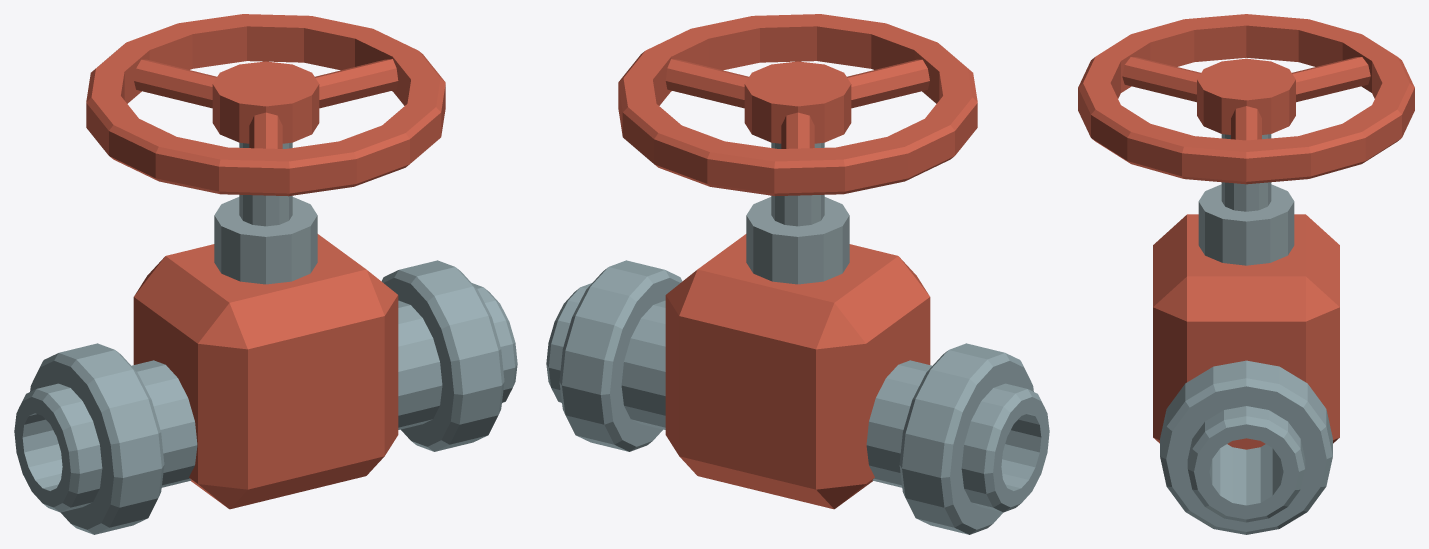
File: Systems-WaterValve.fbx
3 views of the same model, side by side, from view 1: azimuth 30°, elevation 25°; view 2: azimuth 150°, elevation 25°; view 3: azimuth 270°, elevation 25° (orthographic). The views are drawn at different scales.
Parts seen in each view (by area): view 1: Valve Bonnet, Handwheel Rim, Valve Through Body, Body Flange, Body Flange.001, Wheel Hub, Stem Gland, Wheel Spoke, Wheel Spoke.001, Packed Stem, Wheel Spoke.002; view 2: Valve Bonnet, Handwheel Rim, Valve Through Body, Body Flange, Body Flange.001, Wheel Hub, Stem Gland, Wheel Spoke, Wheel Spoke.002, Packed Stem, Wheel Spoke.001; view 3: Handwheel Rim, Valve Bonnet, Body Flange.001, Valve Through Body, Stem Gland, Wheel Hub, Wheel Spoke.001, Wheel Spoke.002, Packed Stem, Wheel Spoke.
Part boxes in pixels (x1,y1,x2,y2): Valve Bonnet: (133,234,398,509); Handwheel Rim: (86,14,445,196); Valve Through Body: (14,283,517,512); Body Flange: (30,343,164,534); Body Flange.001: (381,260,504,451); Wheel Hub: (212,61,319,143); Stem Gland: (214,197,317,284); Wheel Spoke: (315,59,398,108); Wheel Spoke.001: (134,59,216,108); Packed Stem: (239,142,292,226); Wheel Spoke.002: (249,112,282,148); Valve Bonnet: (665,234,930,509); Handwheel Rim: (618,14,977,196); Valve Through Body: (546,283,1049,512); Body Flange: (899,343,1033,534); Body Flange.001: (559,260,682,451); Wheel Hub: (744,61,851,143); Stem Gland: (746,197,849,284); Wheel Spoke: (665,59,748,108); Wheel Spoke.002: (847,59,929,108); Packed Stem: (771,142,824,226); Wheel Spoke.001: (781,112,814,148); Handwheel Rim: (1078,14,1414,184); Valve Bonnet: (1153,214,1339,449); Body Flange.001: (1160,360,1332,534); Valve Through Body: (1187,406,1305,522); Stem Gland: (1198,184,1294,265); Wheel Hub: (1197,58,1295,134); Wheel Spoke.001: (1292,57,1370,102); Wheel Spoke.002: (1122,57,1200,102); Packed Stem: (1221,134,1271,211); Wheel Spoke: (1231,106,1261,140).
Bounding box in the file's own units: 0.31 × 0.264 × 0.218.
